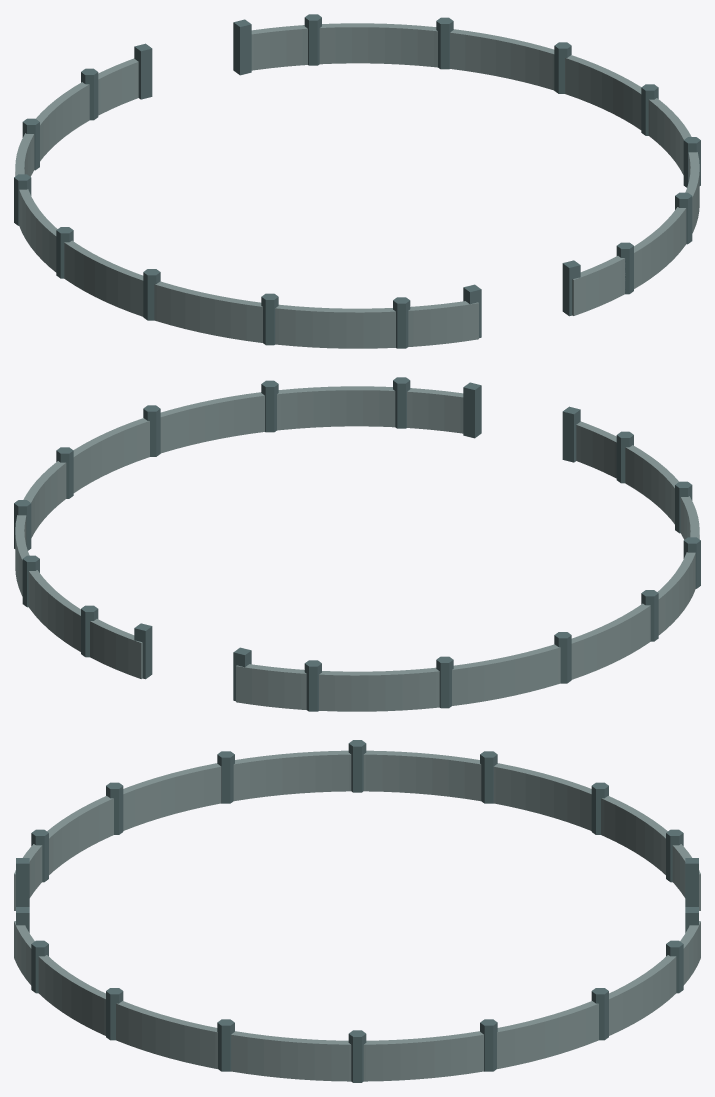
Rendered from SM_R02A_Arena_Walls.fbx.
3 renders of one model, top to bottom at view 1: azimuth 30°, elevation 25°; view 2: azimuth 150°, elevation 25°; view 3: azimuth 270°, elevation 25°, orthographic.
Visible parts, largest first — view 1: SM_R02A_Arena_Walls; view 2: SM_R02A_Arena_Walls; view 3: SM_R02A_Arena_Walls.
Part boxes in pixels (x1,y1,x2,y2): SM_R02A_Arena_Walls: [14, 14, 700, 348]; SM_R02A_Arena_Walls: [14, 377, 700, 711]; SM_R02A_Arena_Walls: [14, 740, 700, 1082].
Size of the model in its own units: 4146 by 4057 by 320.
